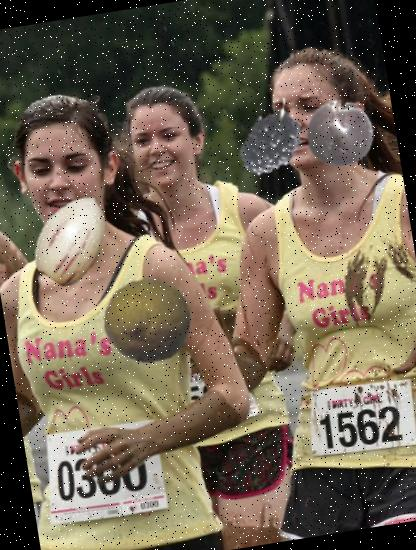Lemon: (97, 271, 199, 373)
Mulberry: (233, 96, 330, 192)
Passion: (302, 93, 380, 172)
Pepino: (22, 187, 126, 292)
